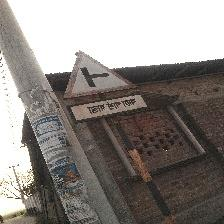Side-road-left: (63, 51, 149, 124)
